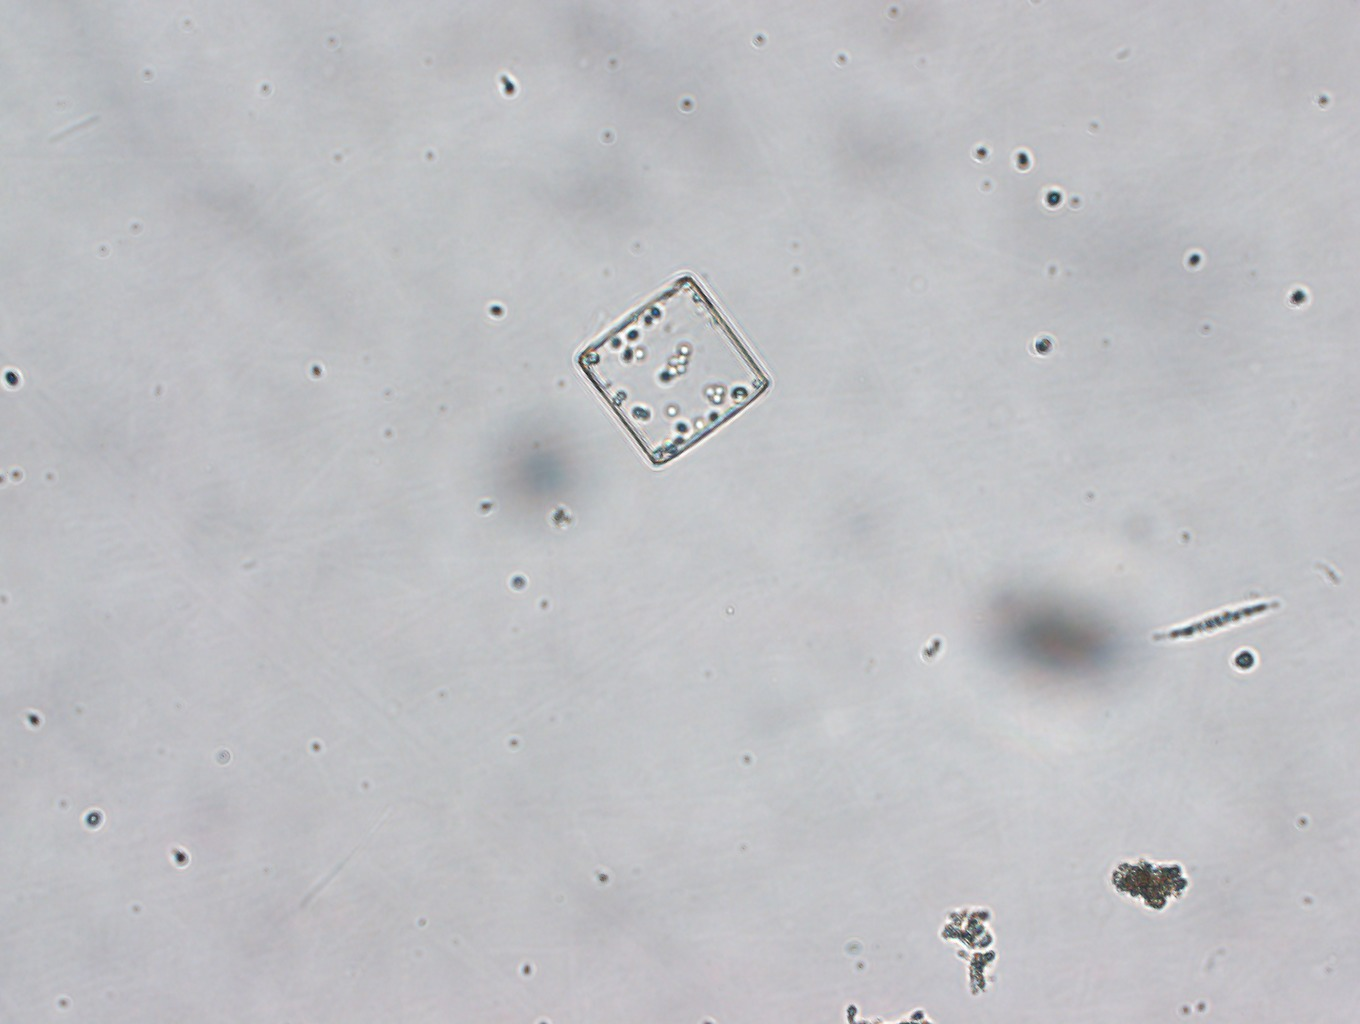guinardia flaccida: (573, 272, 768, 468)
